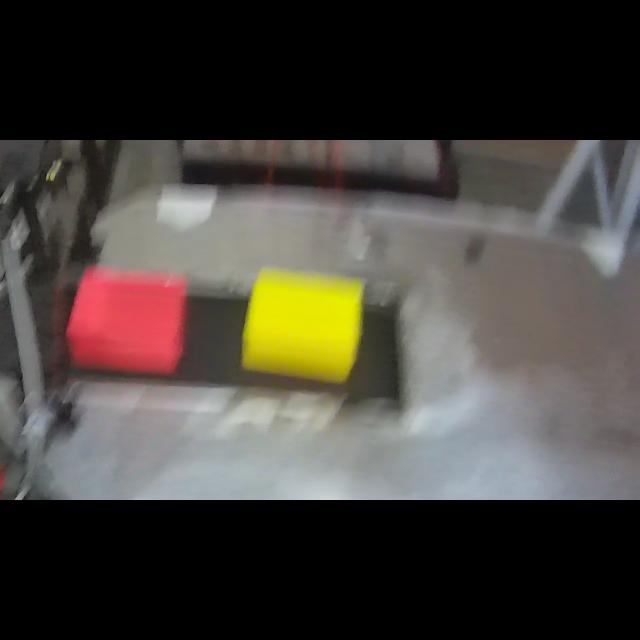redBox: (66, 262, 186, 376)
yellowBox: (241, 260, 367, 386)
